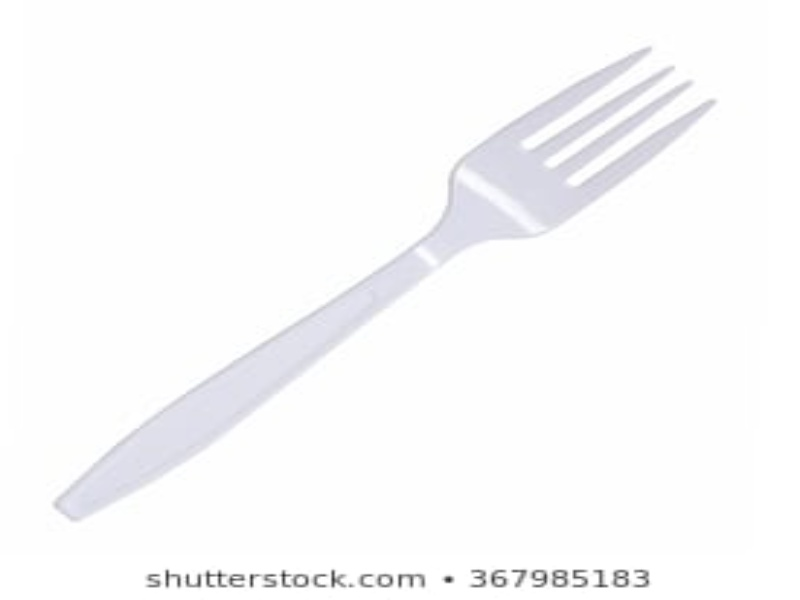plastic-silverware: (51, 43, 720, 523)
